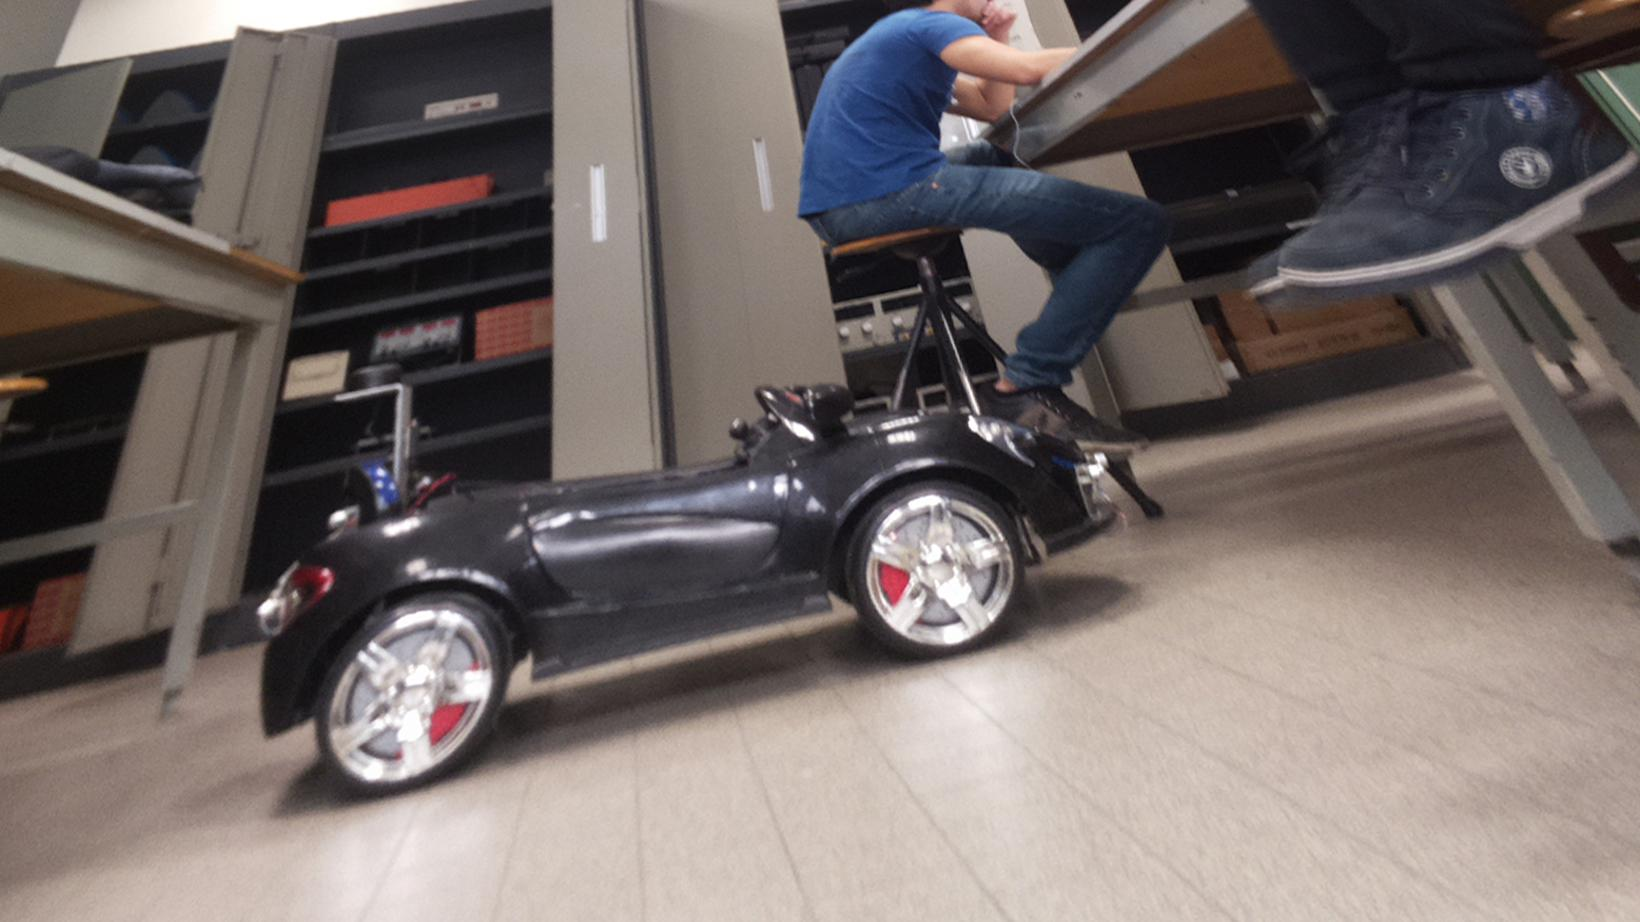big: (256, 377, 1131, 808)
